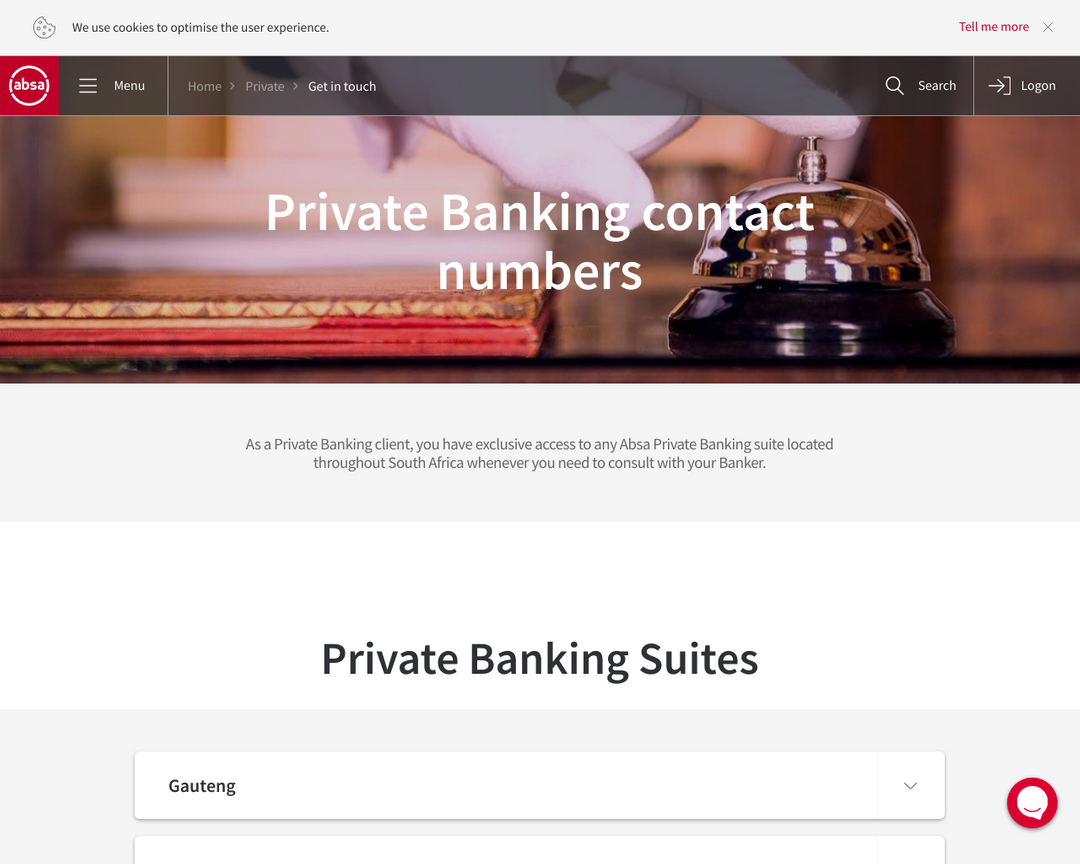ABSA: (8, 66, 52, 106)
